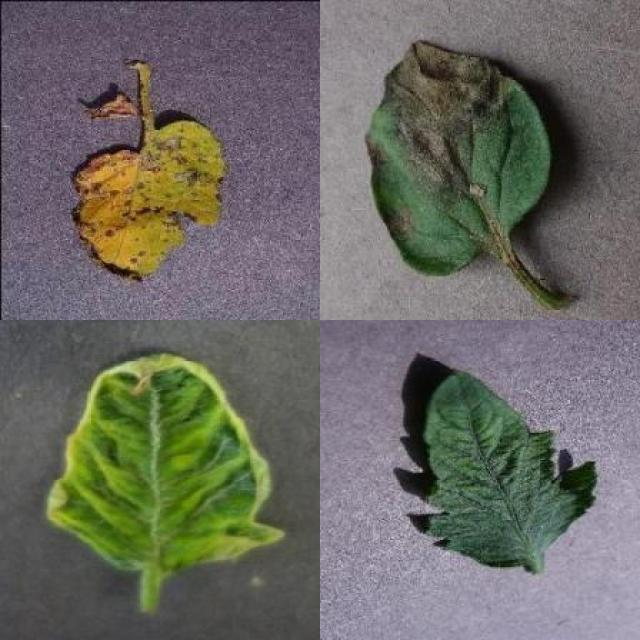Late Blight: (366, 38, 554, 276)
Mosaic Virus: (422, 369, 598, 570)
Septoria: (70, 120, 224, 286)
Yellow Leaf Curl Virus: (44, 352, 286, 574)
